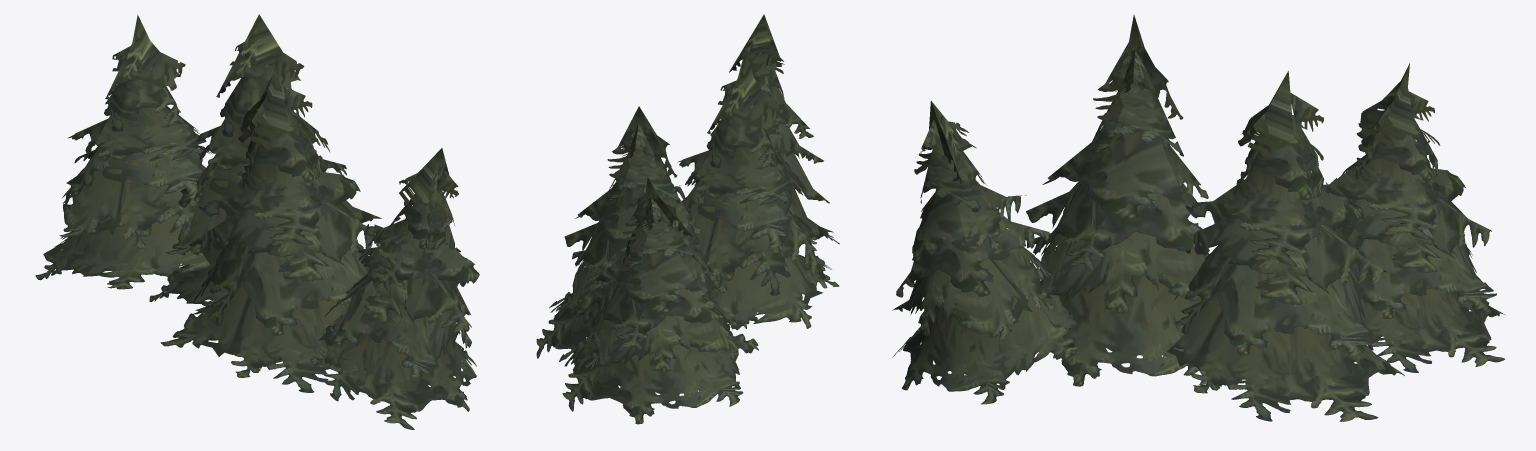
3 renders of one model, left to right at view 1: azimuth 30°, elevation 25°; view 2: azimuth 150°, elevation 25°; view 3: azimuth 270°, elevation 25°, orthographic. The views are drawn at different scales.
Parts seen in each view (by area): view 1: body0_model0_lod0_mesh0; view 2: body0_model0_lod0_mesh0; view 3: body0_model0_lod0_mesh0.
Part boxes in pixels (x1,y1,x2,y2): body0_model0_lod0_mesh0: (35, 14, 479, 429); body0_model0_lod0_mesh0: (536, 14, 839, 424); body0_model0_lod0_mesh0: (892, 15, 1504, 421).
Size of the model in its own units: 448 by 454 by 766.
Materials: 1 (1 with a texture image).
